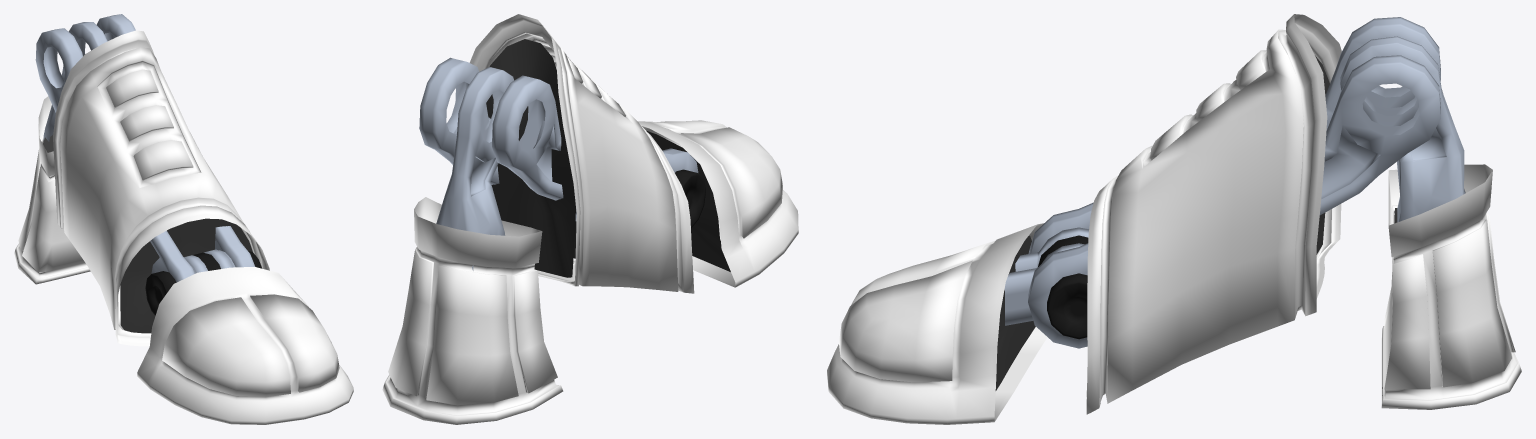
File: rightFoot.dae
The picture shows the model from 3 angles, left to right: view 1: azimuth 30°, elevation 25°; view 2: azimuth 150°, elevation 25°; view 3: azimuth 270°, elevation 25°; orthographic projection. The views are drawn at different scales.
Parts seen in each view (by area): view 1: Mesh_014, Cube_003, Circle_146, Mesh_015, Circle_155, Circle_147; view 2: Mesh_014, Mesh_015, Cube_003, Circle_146, Circle_155; view 3: Mesh_014, Cube_003, Mesh_015, Circle_146, Circle_155, Circle_147.
Part boxes in pixels (x1=…): Mesh_014: x1=53, y1=30, x2=269, y2=346; Cube_003: x1=137, y1=267, x2=353, y2=424; Circle_146: x1=35, y1=14, x2=262, y2=315; Mesh_015: x1=14, y1=96, x2=90, y2=284; Circle_155: x1=43, y1=22, x2=107, y2=141; Circle_147: x1=184, y1=249, x2=235, y2=273; Mesh_014: x1=469, y1=14, x2=694, y2=293; Mesh_015: x1=382, y1=197, x2=563, y2=424; Cube_003: x1=638, y1=120, x2=798, y2=287; Circle_146: x1=419, y1=57, x2=705, y2=228; Circle_155: x1=436, y1=67, x2=513, y2=270; Mesh_014: x1=1086, y1=14, x2=1341, y2=414; Cube_003: x1=827, y1=223, x2=1047, y2=424; Mesh_015: x1=1381, y1=164, x2=1521, y2=409; Circle_146: x1=1028, y1=17, x2=1440, y2=348; Circle_155: x1=1340, y1=36, x2=1465, y2=222; Circle_147: x1=1004, y1=227, x2=1088, y2=325.
Bounding box in the file's own units: 1.42 × 3.91 × 2.21.
